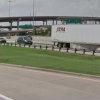Bridge: (4, 6, 97, 34)
